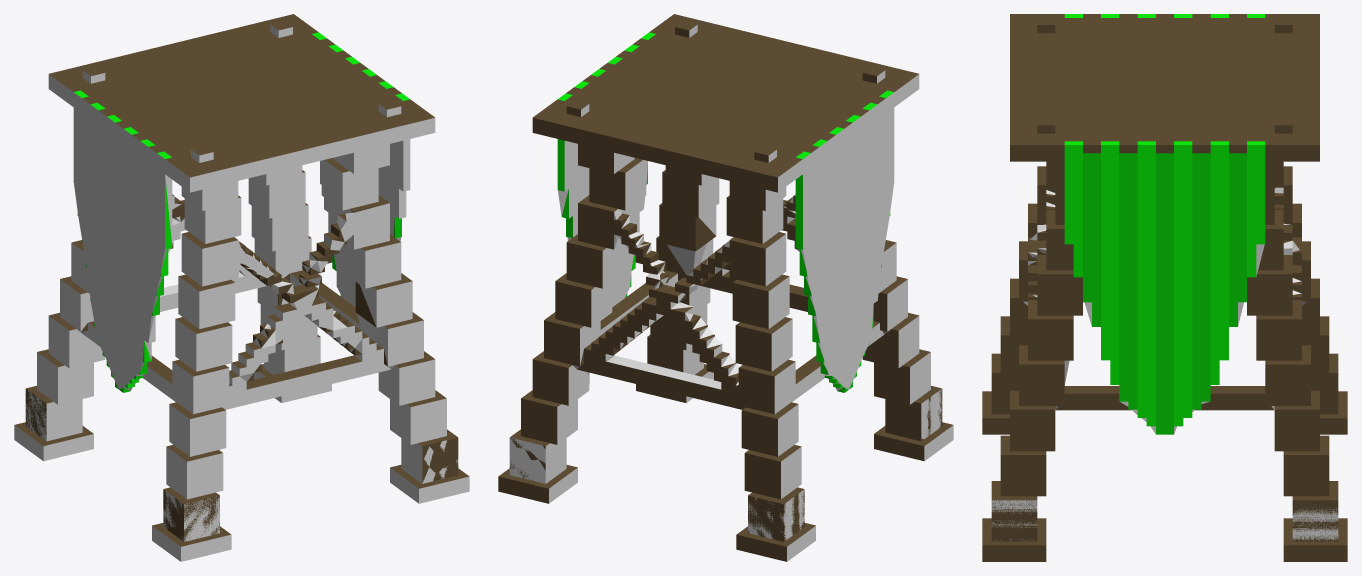
File: WoodenTower2.fbx
3 views of the same model, side by side, from view 1: azimuth 30°, elevation 25°; view 2: azimuth 150°, elevation 25°; view 3: azimuth 270°, elevation 25° (orthographic). The views are drawn at different scales.
Parts seen in each view (by area): view 1: WoodTowerPly, WoodTowerPly.001; view 2: WoodTowerPly.001, WoodTowerPly; view 3: WoodTowerPly.001, WoodTowerPly.
Part boxes in pixels (x1,y1,x2,y2): WoodTowerPly: [14, 24, 469, 561]; WoodTowerPly.001: [15, 14, 469, 546]; WoodTowerPly.001: [498, 14, 952, 561]; WoodTowerPly: [509, 24, 953, 561]; WoodTowerPly.001: [982, 14, 1347, 561]; WoodTowerPly: [991, 187, 1338, 541].
Bounding box in the file's own units: 4000 × 5000 × 4000.
